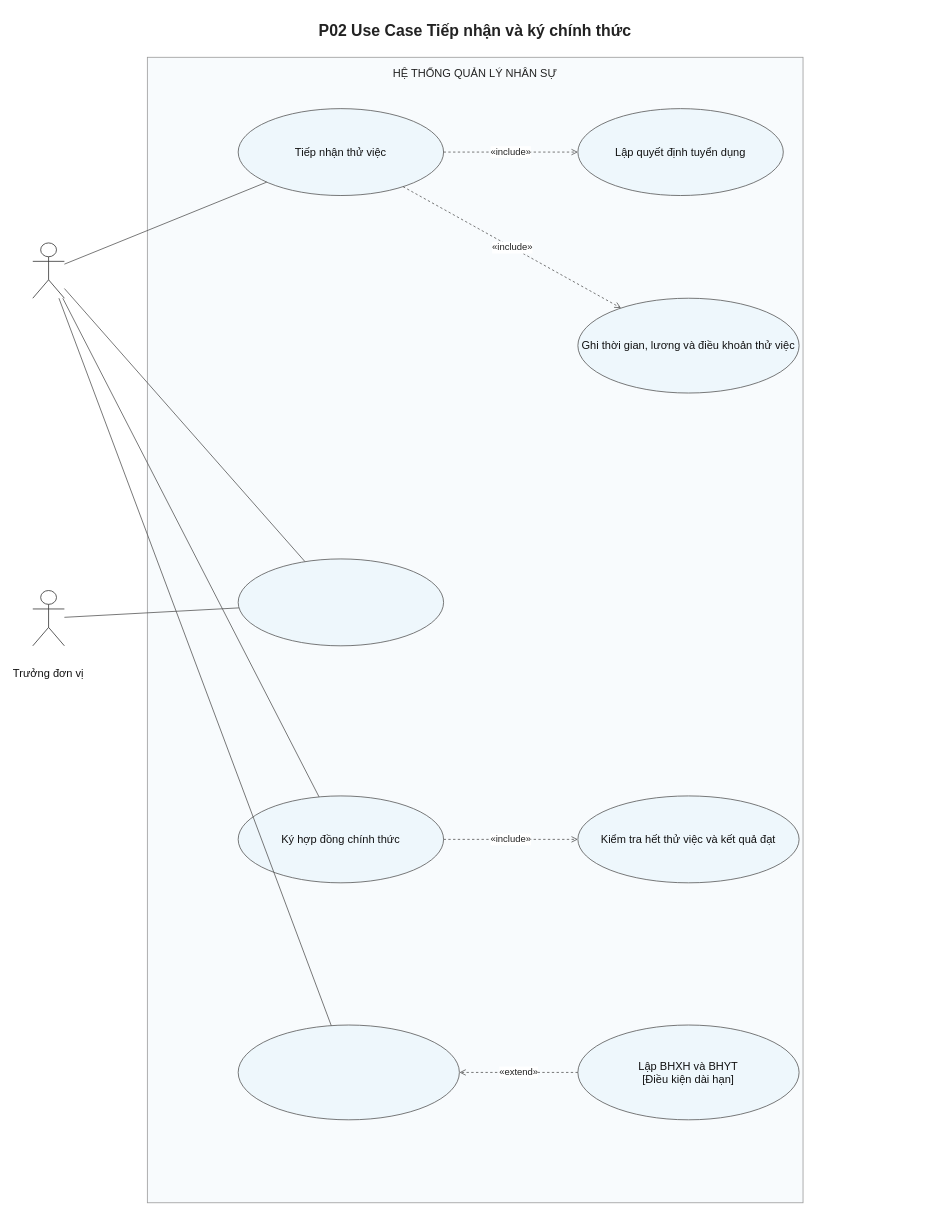
The diagram is 947 pixels wide and 1217 high, and some of its shapes have lost their labels. The shapes that lost their labels are listed below. From the top down, each one's box as (x1, y1, x2, y2) in pixels, then its label:
(32, 242, 64, 298): Nhân sự
(237, 558, 444, 646): Ghi kết quả đánh giá thử việc
(237, 1024, 459, 1120): Lập quyết định lương và chức vụ
